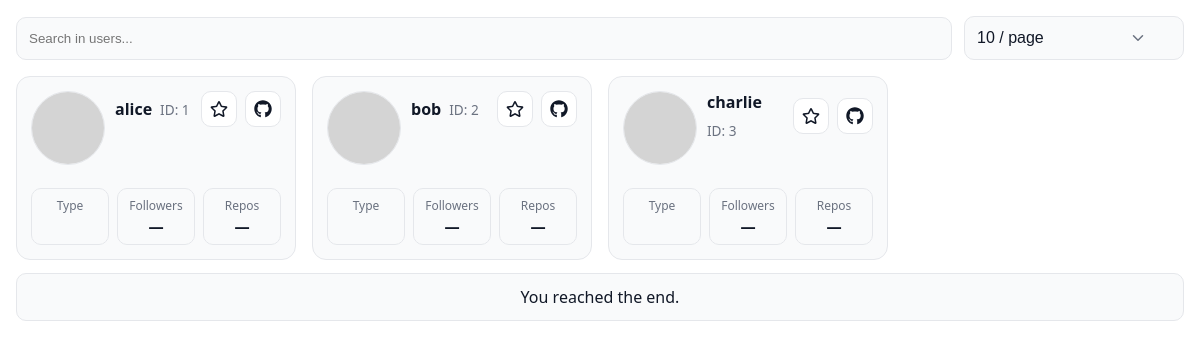
Scenario: filters users by search query
The width and height of the screenshot is (1201, 338).
Expected: the heading "alice" is shown, [115, 98, 152, 120]
Type "ali" into the field labelled "Search in users...". click: (484, 38)
box: [16, 16, 952, 60]
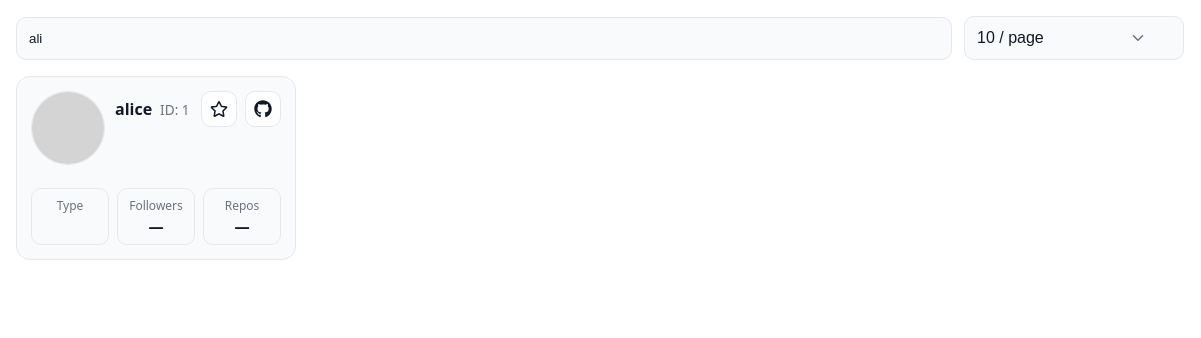
Expected: the heading "alice" is shown, [115, 98, 152, 120]
Now the heading "bob" is gone
Now the heading "charlie" is gone
